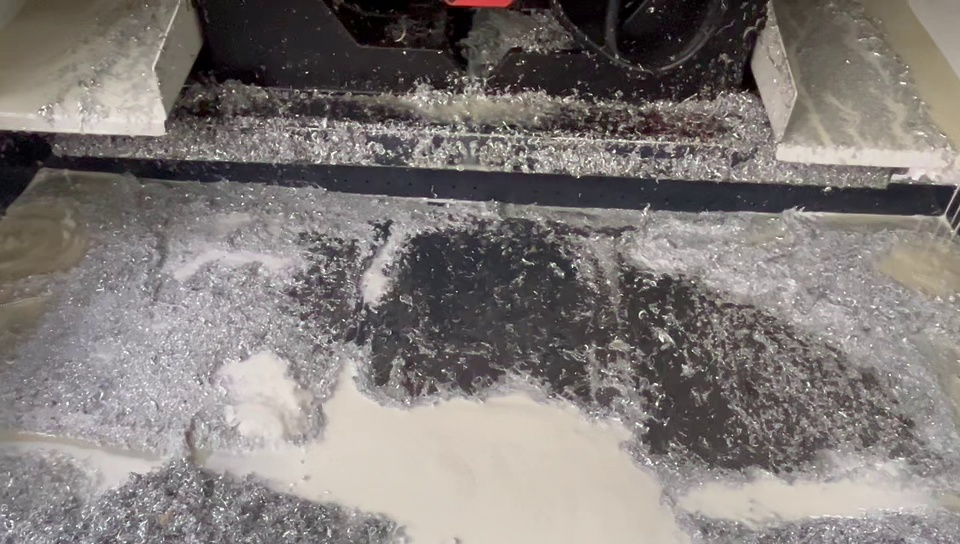iron_scrap: (0, 183, 253, 459), (185, 85, 781, 175), (641, 217, 952, 333), (256, 186, 365, 430), (96, 460, 402, 543), (859, 342, 952, 454), (2, 451, 87, 544)
